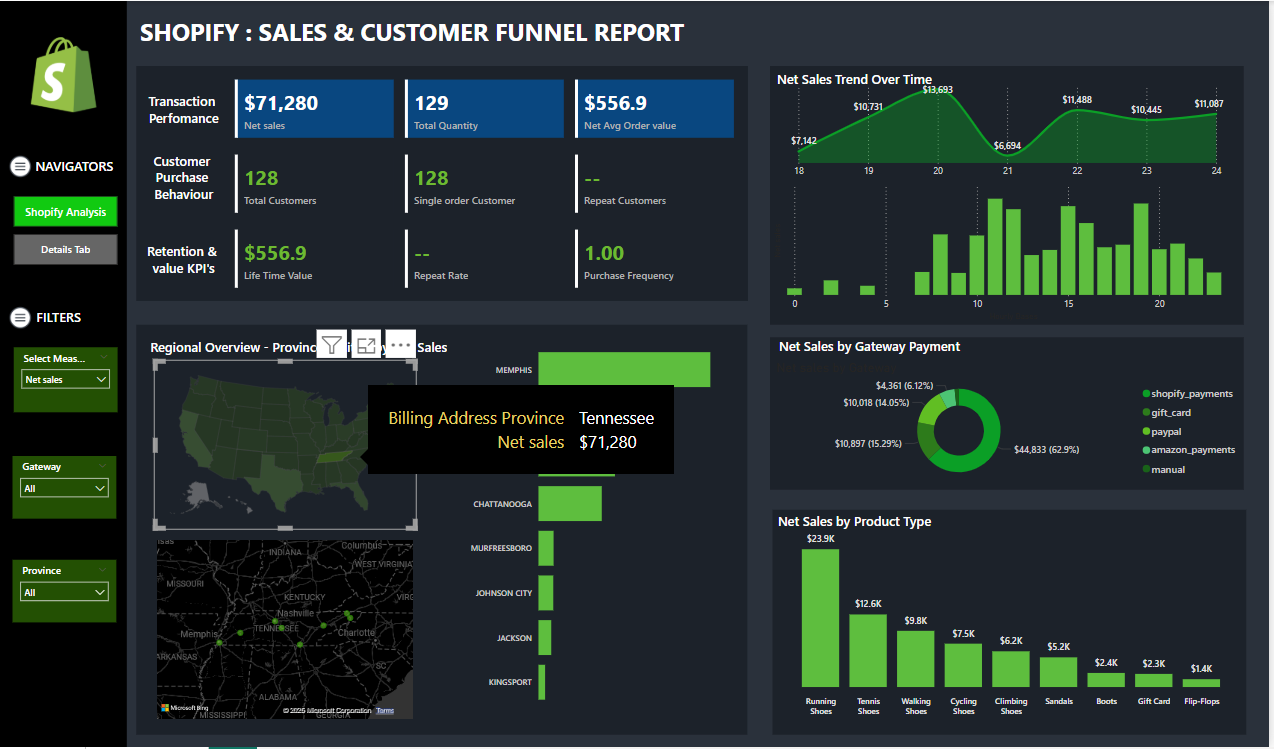

The dashboard page shown, as its layout file describes it:
{"tool":"powerbi","page":{"name":"Shopify Analysis","canvas":[1700,1000],"ordinal":0},"visuals":[{"type":"shape","box":[0,0,170,1000.5],"z":0},{"type":"textbox","box":[182.6,15.1,819.4,92.2],"z":1000},{"type":"shape","box":[182,87,820,315],"z":2000},{"type":"cardVisual","fields":{"Data":["shopify_sales.Net sales","shopify_sales.Total Quantity","shopify_sales.Net Avg Order value"]},"box":[310,100.5,680.3,88.8],"z":3000},{"type":"card","fields":{"Values":["shopify_sales.Tansaction perf"]},"box":[182.6,100.5,127.3,88.8],"z":4000},{"type":"cardVisual","fields":{"Data":["shopify_sales.Total Customers","shopify_sales.Single order Customer","shopify_sales.Repeat Customers"]},"box":[310,201.1,680.3,88.8],"z":5000},{"type":"card","fields":{"Values":["shopify_sales.Customer Purchase"]},"box":[182.6,189.3,127.3,88.8],"z":6000},{"type":"cardVisual","fields":{"Data":["shopify_sales.Life Time Value","shopify_sales.Repeat Rate","shopify_sales.Purchase Frequency"]},"box":[310,301.6,680.3,88.8],"z":7000},{"type":"card","fields":{"Values":["shopify_sales.Retention & value KPI's"]},"box":[182.6,301.6,127.3,88.8],"z":8000},{"type":"shape","box":[182.6,434,819.4,549.6],"z":9000},{"type":"shapeMap","fields":{"Value":["shopify_sales.Net sales"],"Category":["shopify_sales.Billing Address Province"]},"box":[206.1,480.9,351.9,227.9],"z":10000},{"type":"slicer","fields":{"Values":["Select Measure 2.Select Measure"]},"box":[18.4,464.1,139.1,87.1],"z":11000},{"type":"map","fields":{"Category":["shopify_sales.Location"]},"box":[206.1,717.2,351.9,249.7],"z":12000},{"type":"clusteredBarChart","fields":{"Y":["shopify_sales.Net sales"],"Category":["shopify_sales.CITY"]},"box":[625,434,365.3,532.8],"z":13000},{"type":"card","fields":{"Values":["shopify_sales.Map title"]},"box":[169.2,447.4,462.5,38.5],"z":14000},{"type":"shape","box":[1032.2,87.1,635.1,346.9],"z":15000},{"type":"areaChart","fields":{"Y":["shopify_sales.Net sales"],"Category":["shopify_sales.Invoice Date.Variation.Date Hierarchy.Day"]},"box":[1055.6,100.5,589.8,145.8],"z":16000},{"type":"columnChart","fields":{"Y":["shopify_sales.Net sales"],"Category":["shopify_sales.Hourly Bases"]},"box":[1032.2,234.6,635.1,199.4],"z":17000},{"type":"card","fields":{"Values":["shopify_sales.Trend Over Time"]},"box":[1032.2,87.1,231.2,38.5],"z":18000},{"type":"shape","box":[1032.2,450.7,635.1,204.4],"z":19000},{"type":"donutChart","fields":{"Y":["shopify_sales.Net sales"],"Category":["shopify_sales.Gateway"]},"box":[1035.5,480.9,635.1,170.9],"z":20000},{"type":"card","fields":{"Values":["shopify_sales.Payment Method"]},"box":[1032.2,447.4,271.4,33.5],"z":21000},{"type":"shape","box":[1035.5,682,635.1,301.6],"z":22000},{"type":"columnChart","fields":{"Y":["shopify_sales.Net sales"],"Category":["shopify_sales.Product Type"]},"box":[1035.5,698.7,631.7,268.1],"z":23000},{"type":"card","fields":{"Values":["shopify_sales.Product category"]},"box":[1032.2,682,231.2,35.2],"z":24000},{"type":"image","box":[30.2,43.6,110.6,110.6],"z":25000},{"type":"slicer","fields":{"Values":["shopify_sales.Gateway"]},"box":[16.8,609.9,139.1,83.8],"z":26000},{"type":"slicer","fields":{"Values":["shopify_sales.Billing Address Province"]},"box":[16.8,749,139.1,83.8],"z":27000},{"type":"pageNavigator","box":[18.4,261.4,139.1,92.2],"z":28000},{"type":"image","box":[0,199.4,53.6,45.2],"z":29000},{"type":"card","fields":{"Values":["shopify_sales.navigator"]},"box":[30.2,201.1,139.1,45.2],"z":30000},{"type":"card","fields":{"Values":["shopify_sales.Filter"]},"box":[30.2,402.1,97.2,48.6],"z":31000},{"type":"image","box":[0,402.1,53.6,45.2],"z":32000}]}

Visuals, with their boxes on the page's 1700x1000 design canvas (x1, y1, x2, y2). These are canvas units, not pixel positions in the 1274x749 screenshot, which may show the page scaled, cropped or inside an application window:
shape: (left=0, top=0, right=170, bottom=1000)
textbox: (left=183, top=15, right=1002, bottom=107)
shape: (left=182, top=87, right=1002, bottom=402)
cardVisual - shopify_sales.Net sales x shopify_sales.Total Quantity: (left=310, top=100, right=990, bottom=189)
card - shopify_sales.Tansaction perf: (left=183, top=100, right=310, bottom=189)
cardVisual - shopify_sales.Total Customers x shopify_sales.Single order Customer: (left=310, top=201, right=990, bottom=290)
card - shopify_sales.Customer Purchase: (left=183, top=189, right=310, bottom=278)
cardVisual - shopify_sales.Life Time Value x shopify_sales.Repeat Rate: (left=310, top=302, right=990, bottom=390)
card - shopify_sales.Retention & value KPI's: (left=183, top=302, right=310, bottom=390)
shape: (left=183, top=434, right=1002, bottom=984)
shapeMap - shopify_sales.Net sales x shopify_sales.Billing Address Province: (left=206, top=481, right=558, bottom=709)
slicer - Select Measure 2.Select Measure: (left=18, top=464, right=158, bottom=551)
map - shopify_sales.Location: (left=206, top=717, right=558, bottom=967)
clusteredBarChart - shopify_sales.Net sales x shopify_sales.CITY: (left=625, top=434, right=990, bottom=967)
card - shopify_sales.Map title: (left=169, top=447, right=632, bottom=486)
shape: (left=1032, top=87, right=1667, bottom=434)
areaChart - shopify_sales.Net sales x shopify_sales.Invoice Date.Variation.Date Hierarchy.Day: (left=1056, top=100, right=1645, bottom=246)
columnChart - shopify_sales.Net sales x shopify_sales.Hourly Bases: (left=1032, top=235, right=1667, bottom=434)
card - shopify_sales.Trend Over Time: (left=1032, top=87, right=1263, bottom=126)
shape: (left=1032, top=451, right=1667, bottom=655)
donutChart - shopify_sales.Net sales x shopify_sales.Gateway: (left=1036, top=481, right=1671, bottom=652)
card - shopify_sales.Payment Method: (left=1032, top=447, right=1304, bottom=481)
shape: (left=1036, top=682, right=1671, bottom=984)
columnChart - shopify_sales.Net sales x shopify_sales.Product Type: (left=1036, top=699, right=1667, bottom=967)
card - shopify_sales.Product category: (left=1032, top=682, right=1263, bottom=717)
image: (left=30, top=44, right=141, bottom=154)
slicer - shopify_sales.Gateway: (left=17, top=610, right=156, bottom=694)
slicer - shopify_sales.Billing Address Province: (left=17, top=749, right=156, bottom=833)
pageNavigator: (left=18, top=261, right=158, bottom=354)
image: (left=0, top=199, right=54, bottom=245)
card - shopify_sales.navigator: (left=30, top=201, right=169, bottom=246)
card - shopify_sales.Filter: (left=30, top=402, right=127, bottom=451)
image: (left=0, top=402, right=54, bottom=447)
